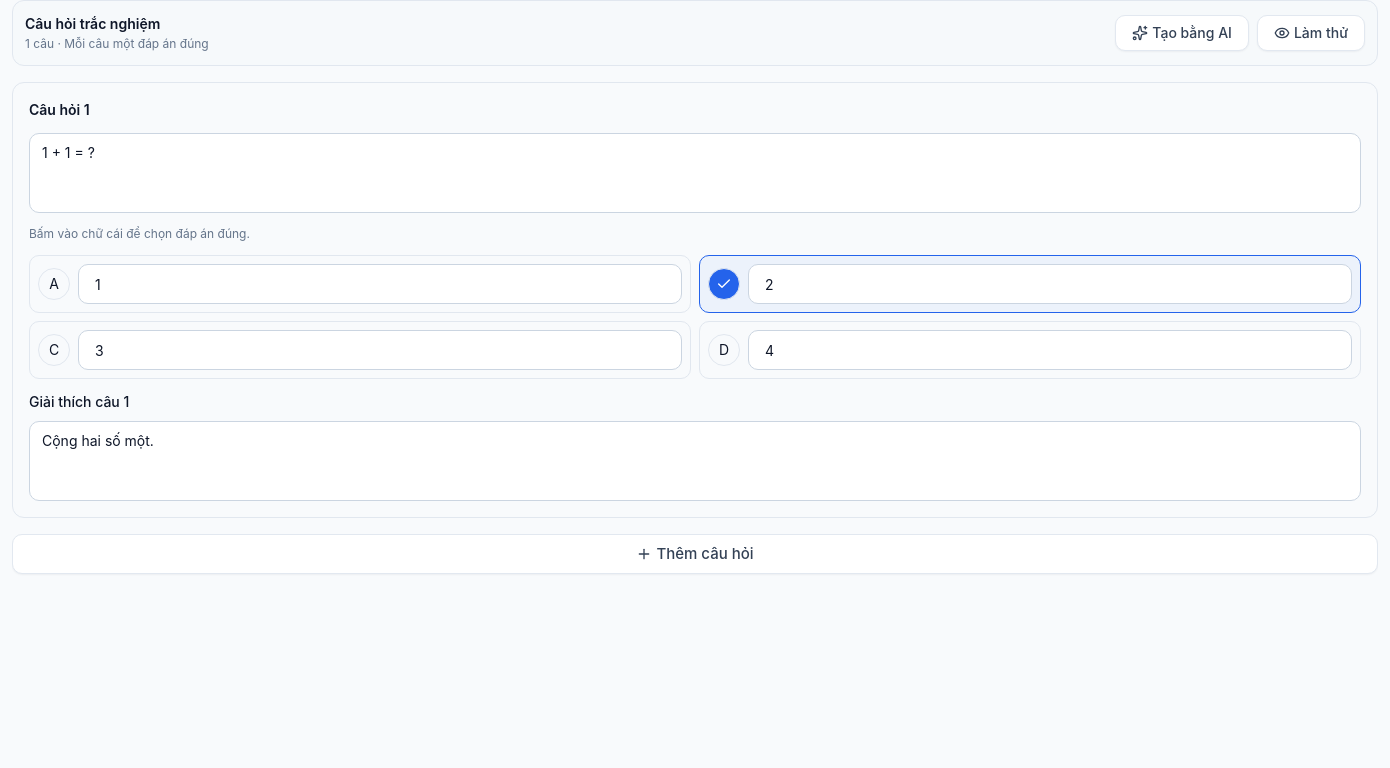
Test case: Lesson quiz builder › teacher changes the answer key and the preview grades against that key
Click the button named "Chọn phương án C làm đáp án đúng của câu 1": (54, 350) [38,334,70,366]
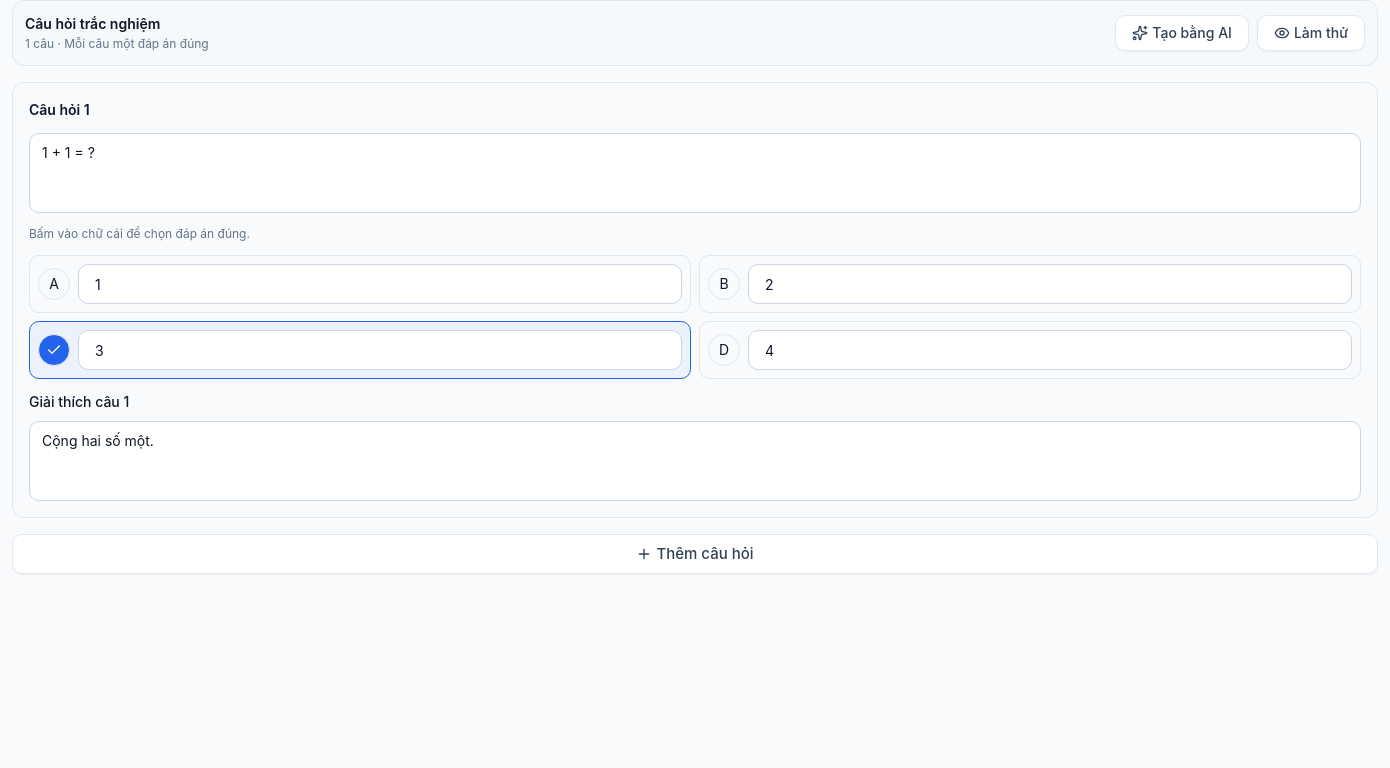
Click the button "Làm thử": (1311, 33) [1257,15,1365,51]
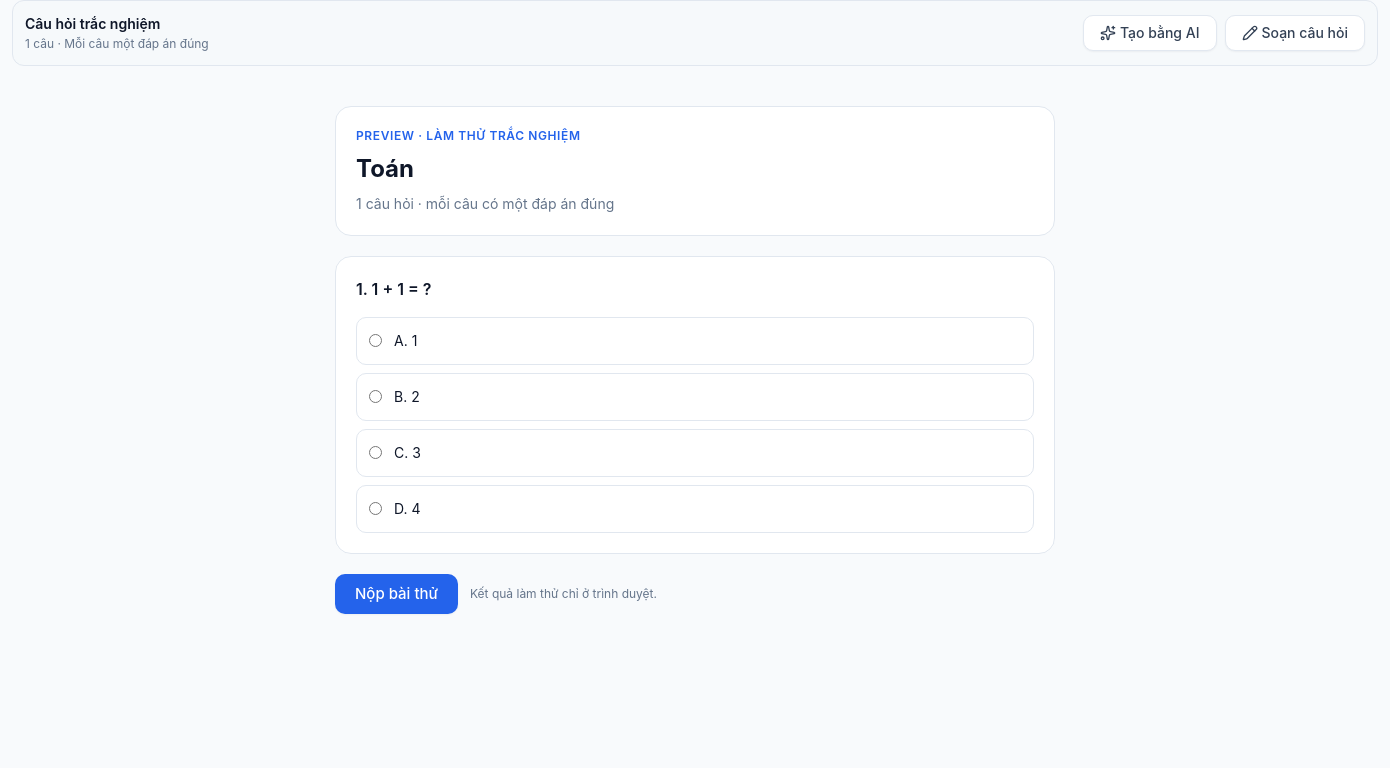
Click the radio button labelled "C. 3": (376, 452) [369,446,382,459]
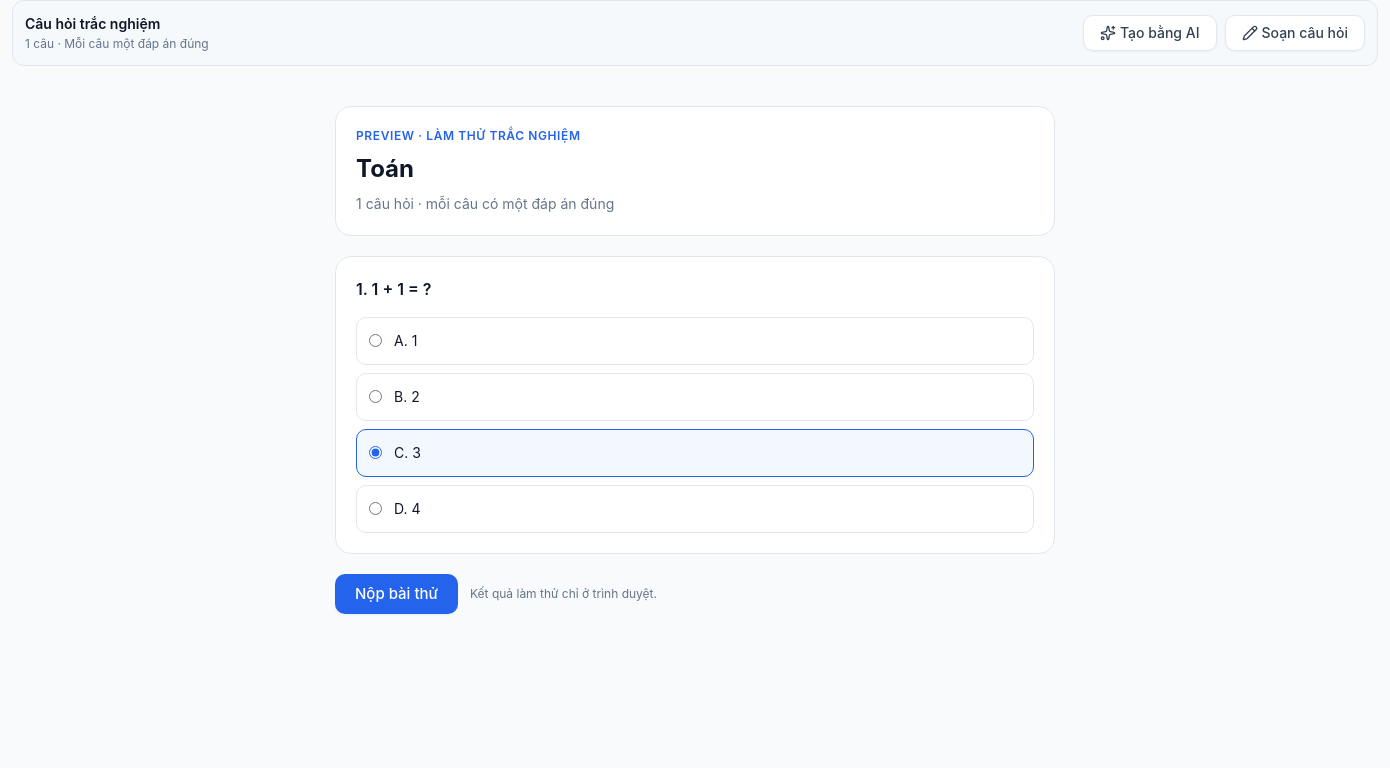
Click the button "Nộp bài thử": (396, 594) [335,574,458,614]
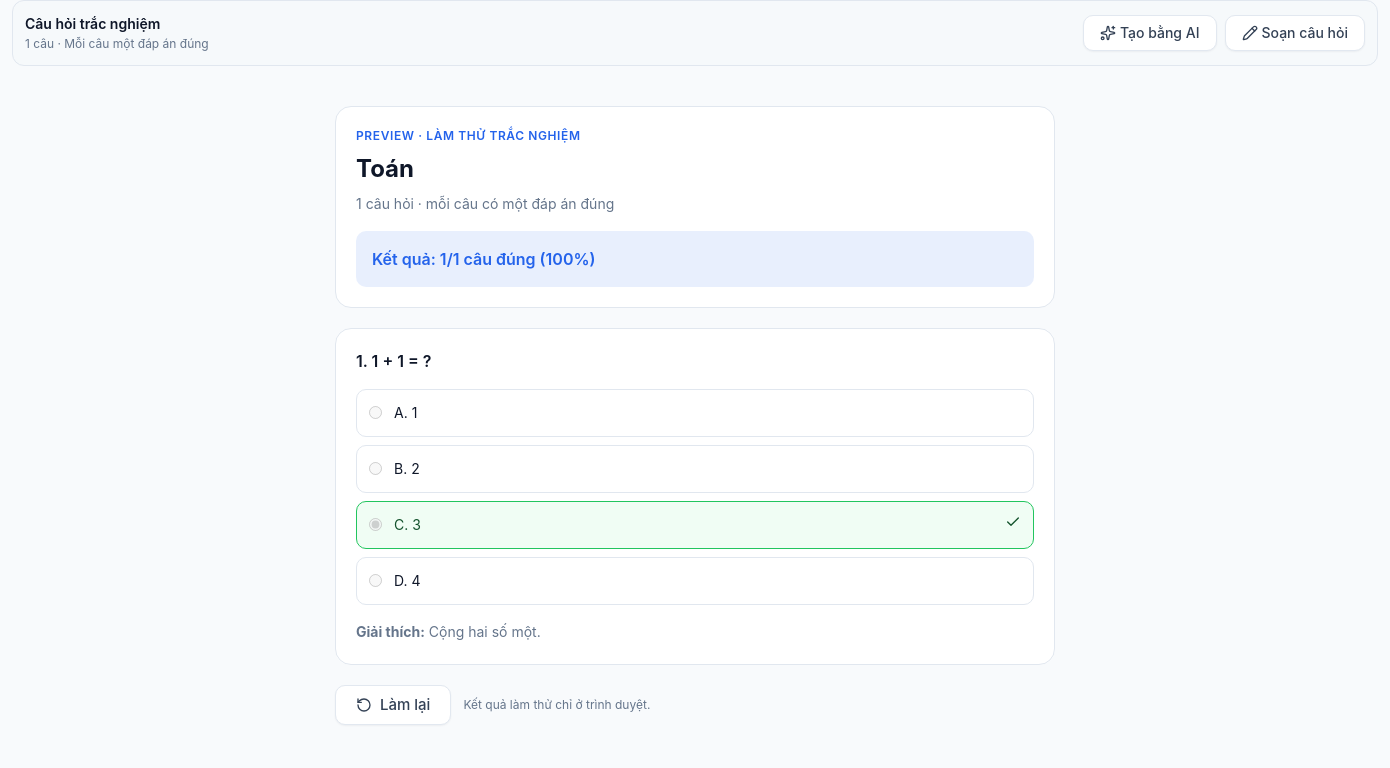
Expected: the message shows "1/1", [356,231,1034,287]
